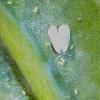whitefly: (47, 24, 73, 59)
